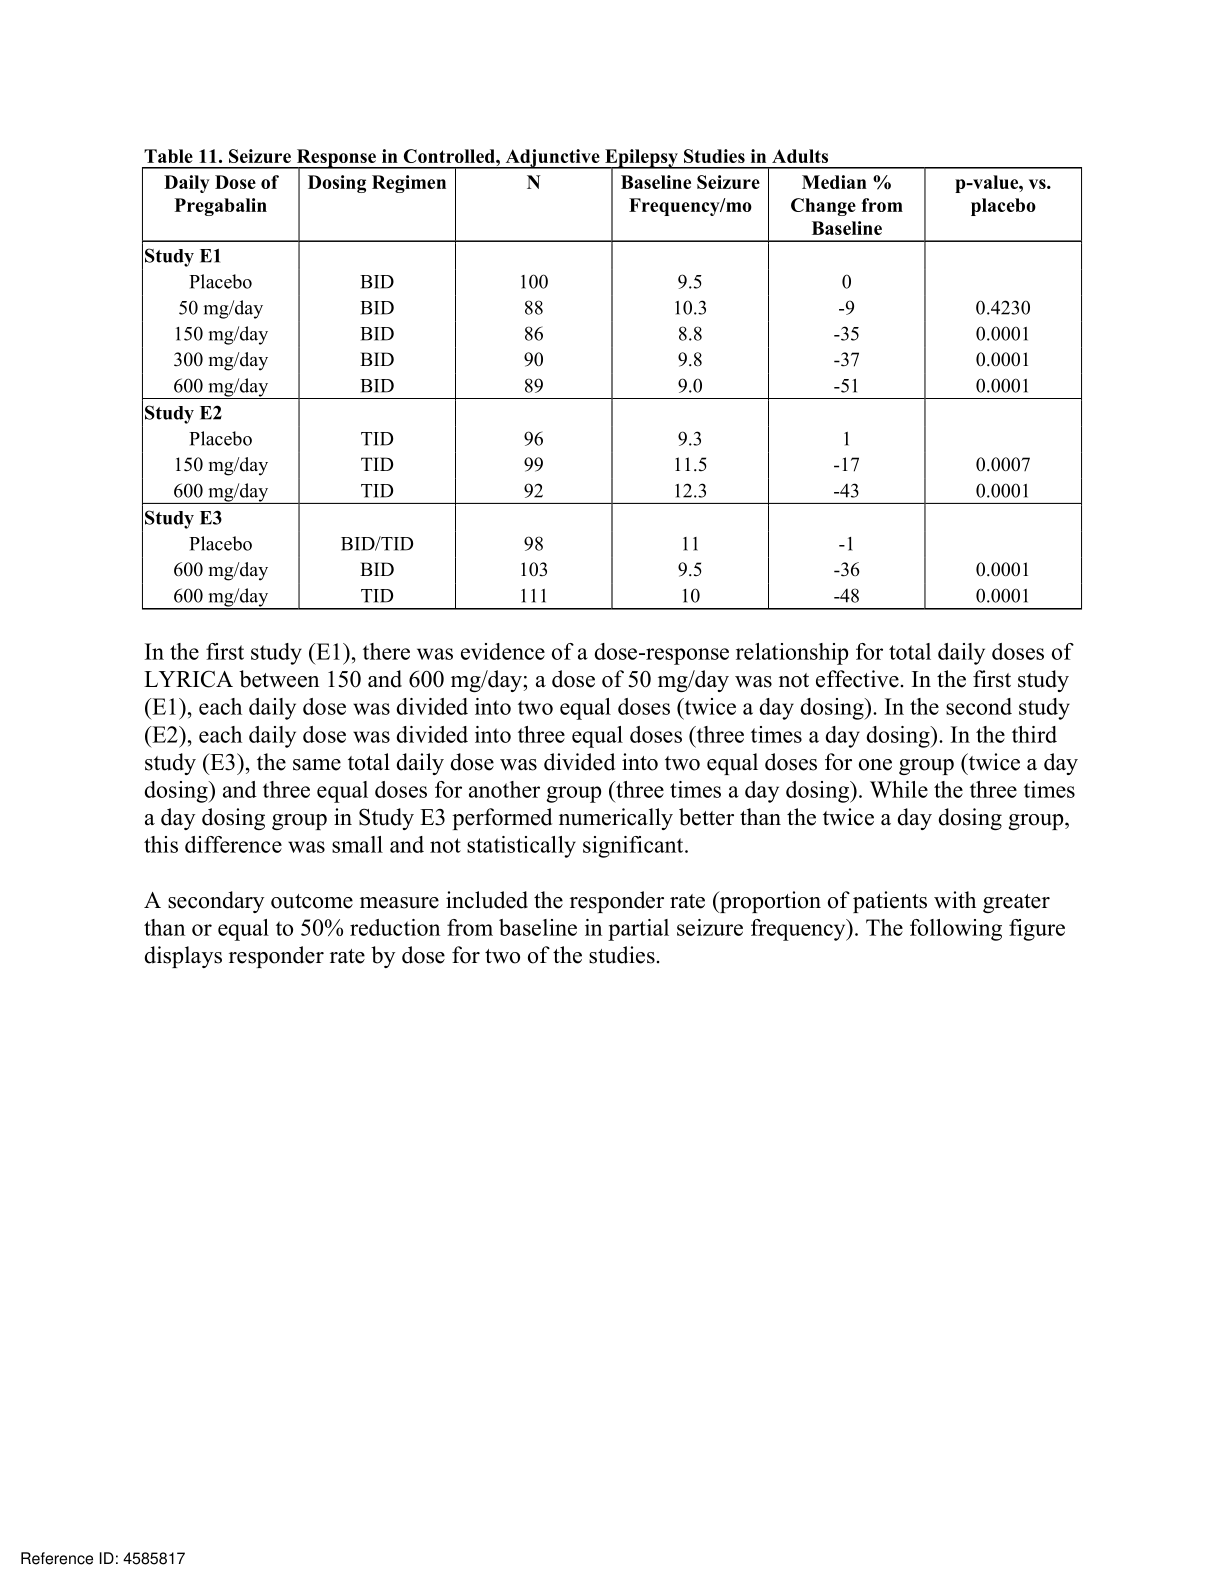full_lined: (140, 166, 1083, 612)
